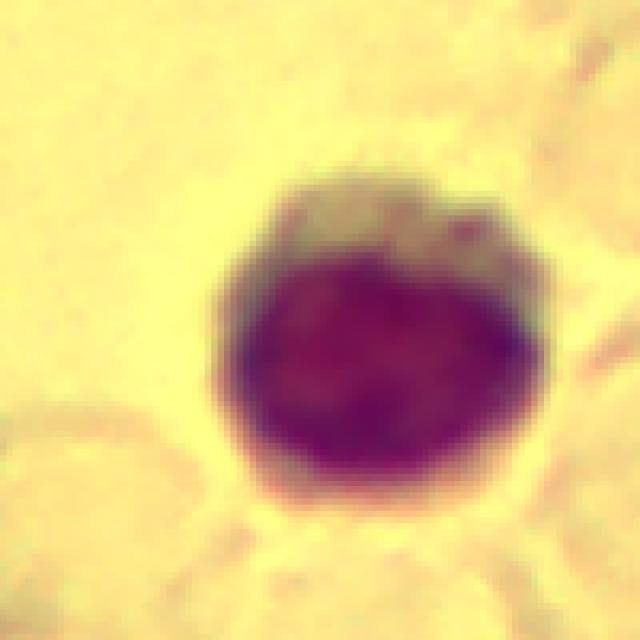WBC: (192, 142, 589, 510)
